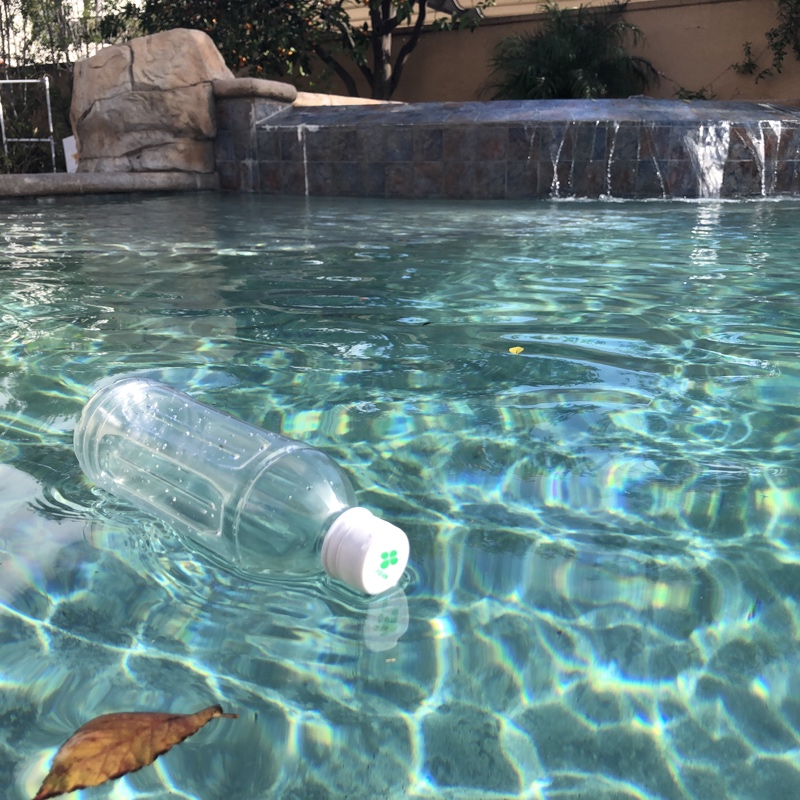Plastic Bottle: (68, 372, 411, 600)
